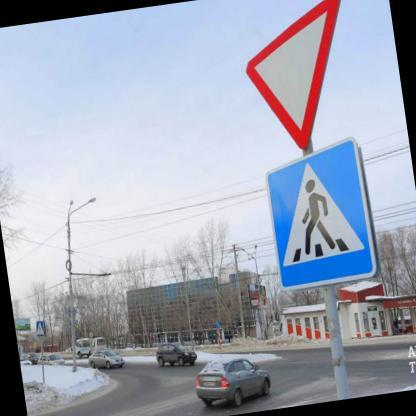road_sign: (268, 138, 379, 288), (246, 0, 340, 154), (35, 320, 46, 336)
